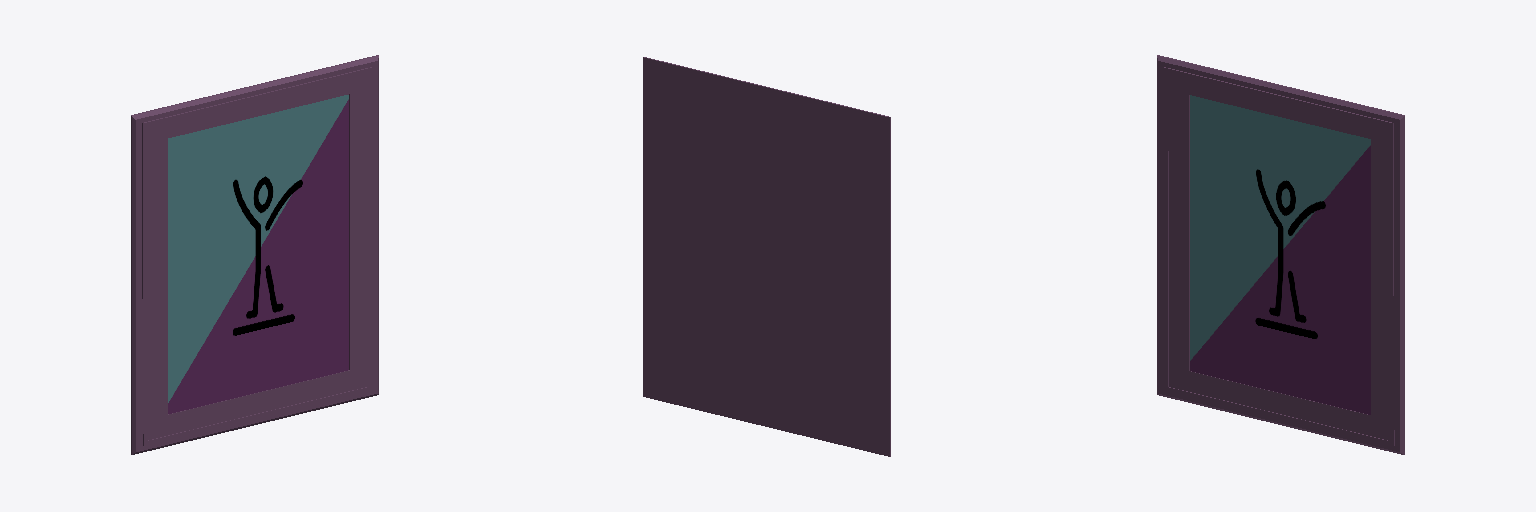
3 renders of one model, left to right at view 1: azimuth 30°, elevation 25°; view 2: azimuth 150°, elevation 25°; view 3: azimuth 330°, elevation 25°, orthographic.
Parts seen in each view (by area): view 1: Picture:polySurface71; view 2: Picture:polySurface71; view 3: Picture:polySurface71.
Boxes of the visible parts, x1,y1,x2,y2 form: Picture:polySurface71: [131, 55, 378, 454]; Picture:polySurface71: [643, 57, 890, 456]; Picture:polySurface71: [1157, 55, 1404, 454].
Size of the model in its own units: 1.07 by 1.4 by 0.0243.
2 materials, 2 textured.